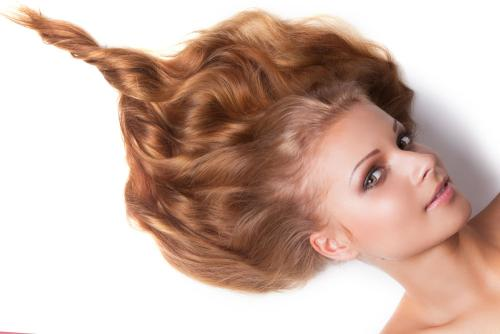no_mask: (115, 4, 470, 262)
